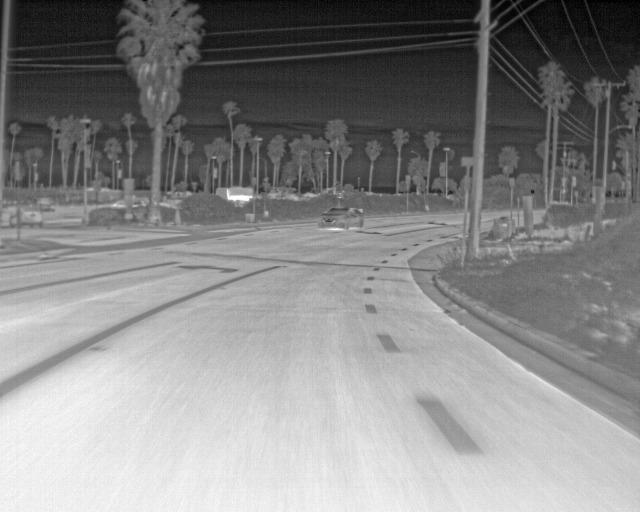car: (318, 207, 364, 231), (9, 207, 43, 228), (35, 197, 56, 212)
light: (572, 177, 576, 187)
sign: (123, 179, 133, 196), (461, 156, 474, 166), (509, 177, 515, 187), (406, 176, 411, 184)
